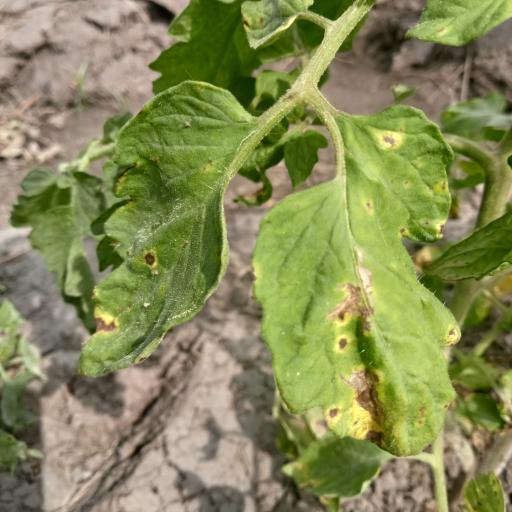Tomato_Brown_Spots: (253, 102, 463, 466), (76, 75, 256, 383)
